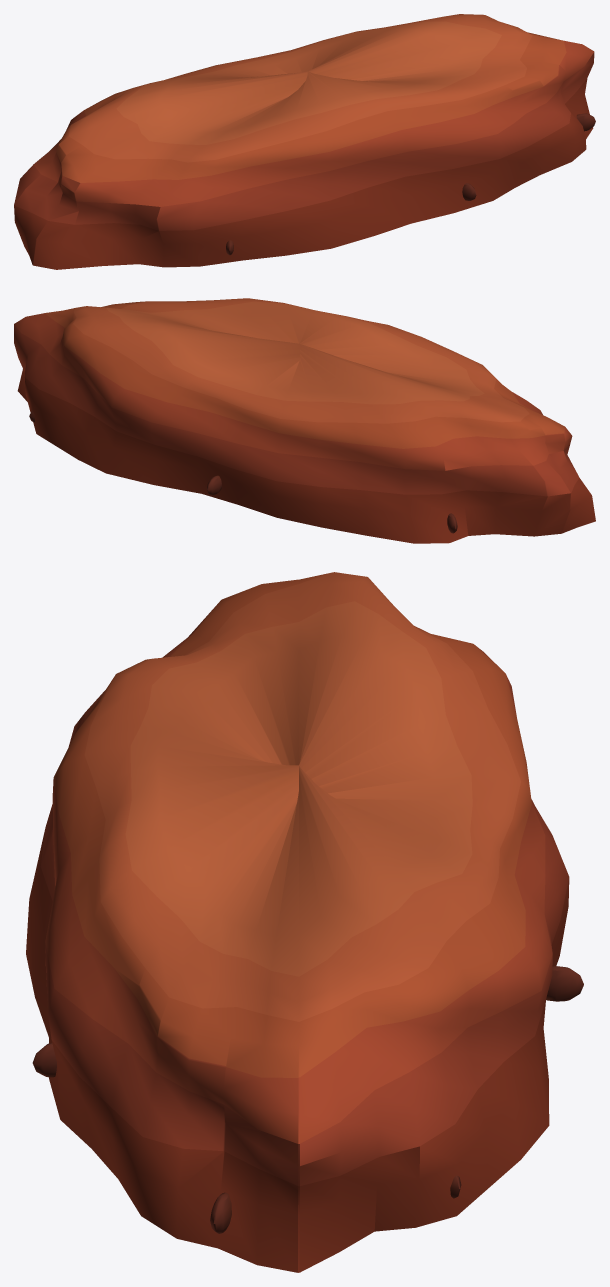
File: lm-uluru.glb
3 views of the same model, one above another, from view 1: azimuth 30°, elevation 25°; view 2: azimuth 150°, elevation 25°; view 3: azimuth 270°, elevation 25° (orthographic). The views are drawn at different scales.
Bounding box in the file's own units: 61.13 × 11.88 × 25.89.
